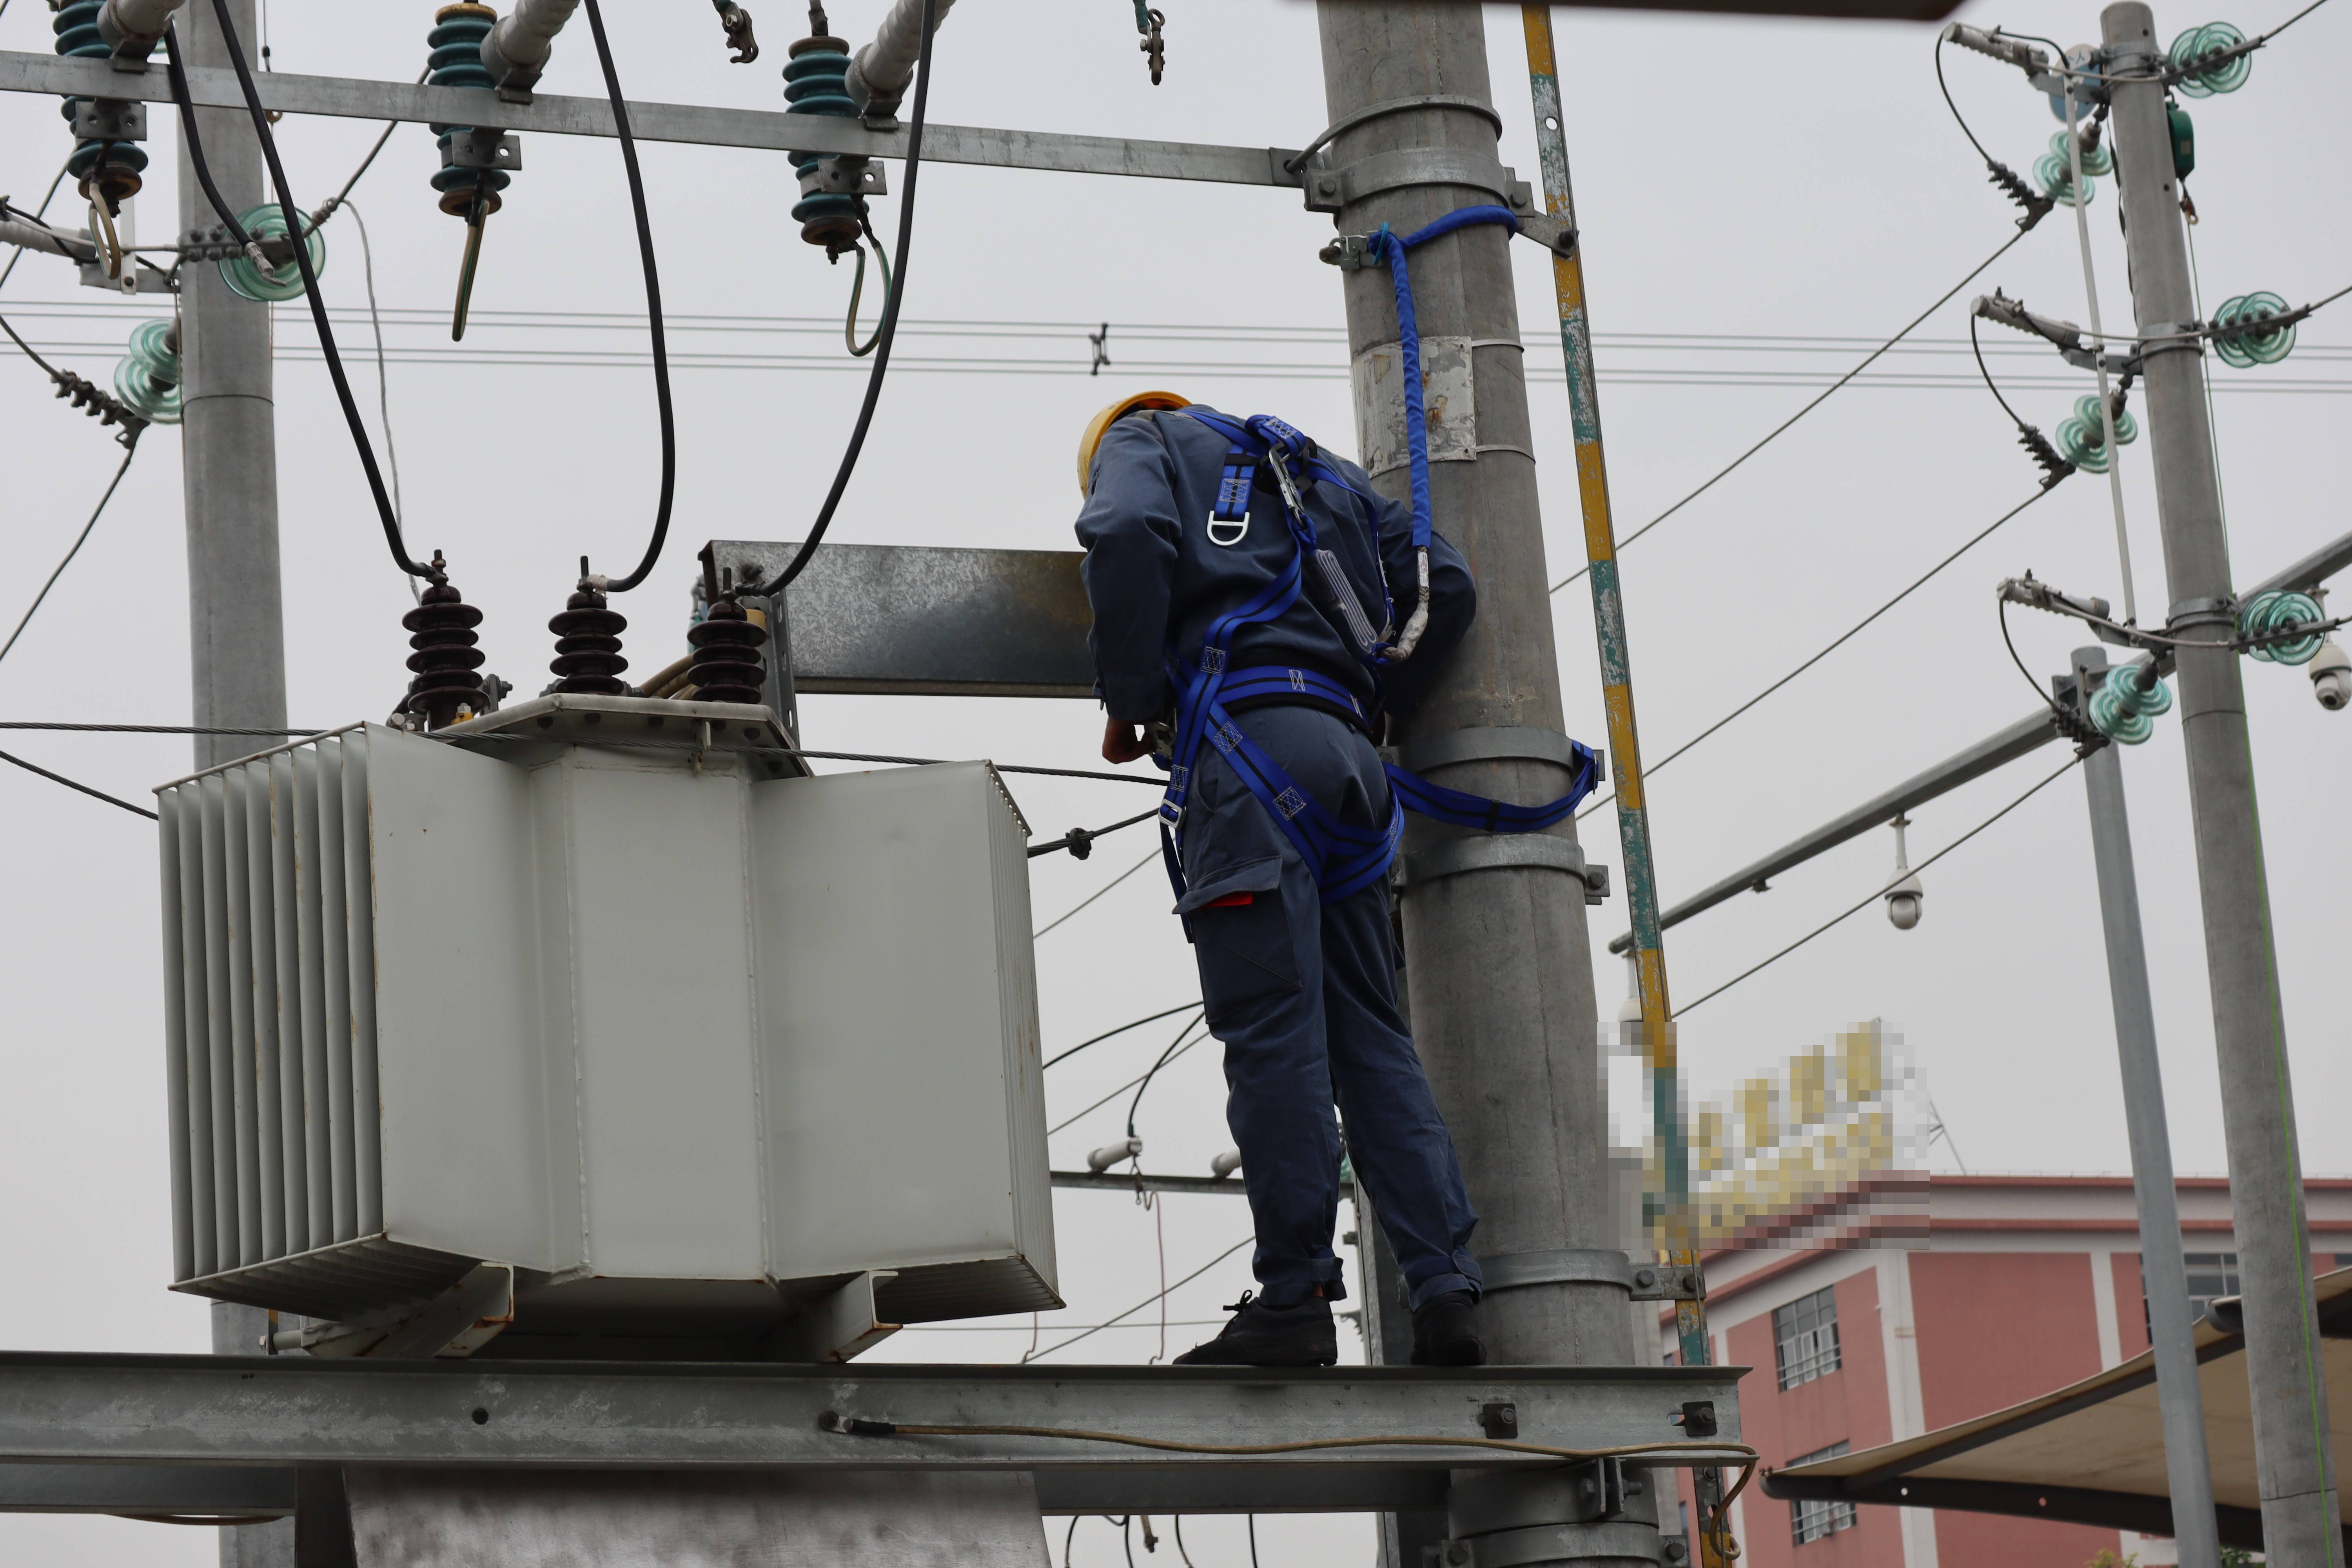downsuit: (1165, 735, 1468, 1270)
upsuit: (1104, 409, 1407, 728)
